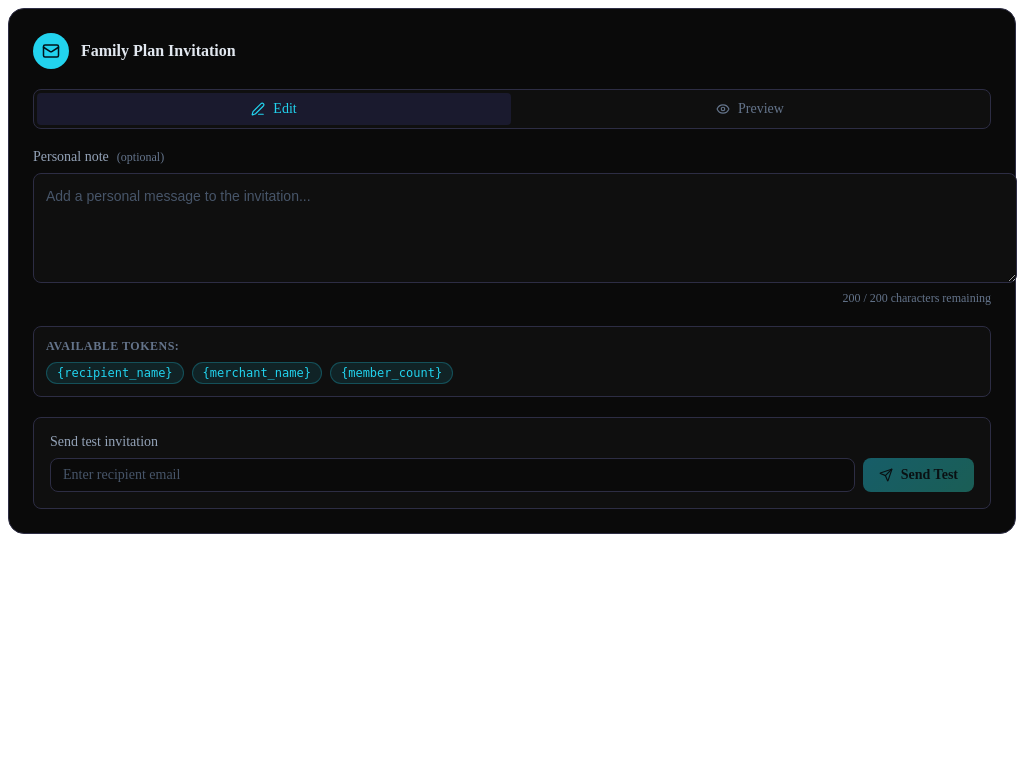
Test case: FamilyInvitationPreview › renders email preview with correct merchant name
This screenshot has width=1024, height=768.
Click the tab "Preview".
click(750, 109)  # box [513,93,987,125]
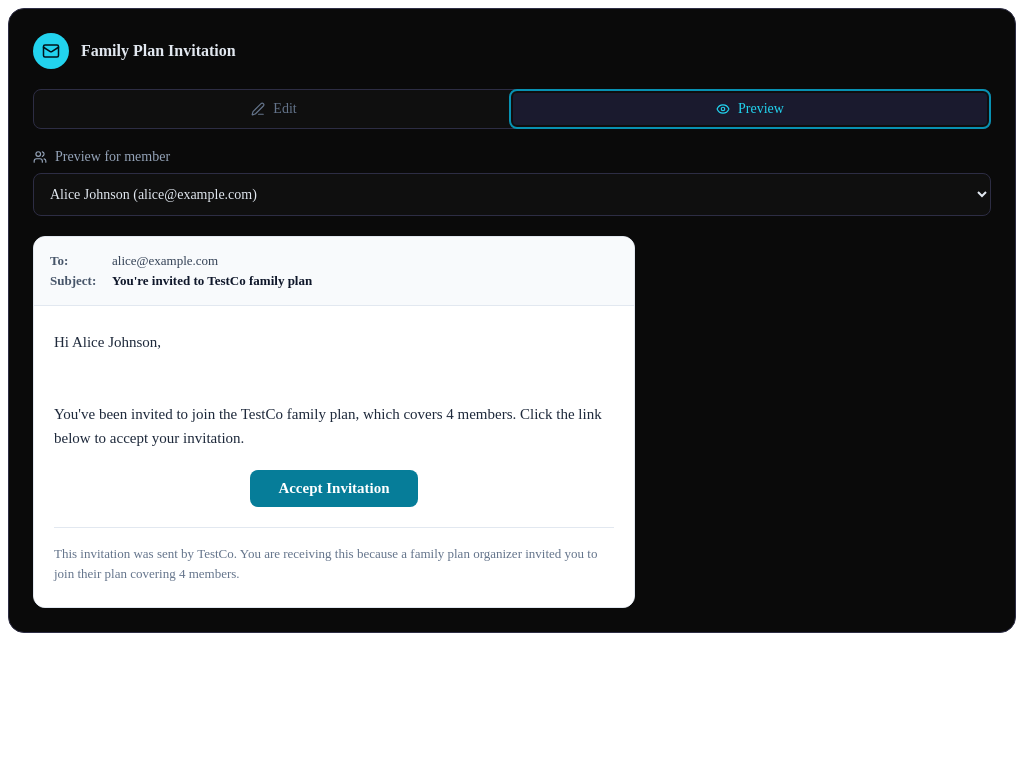
Expected: the text "You're invited to TestCo family plan" is shown, [112,273,312,289]
